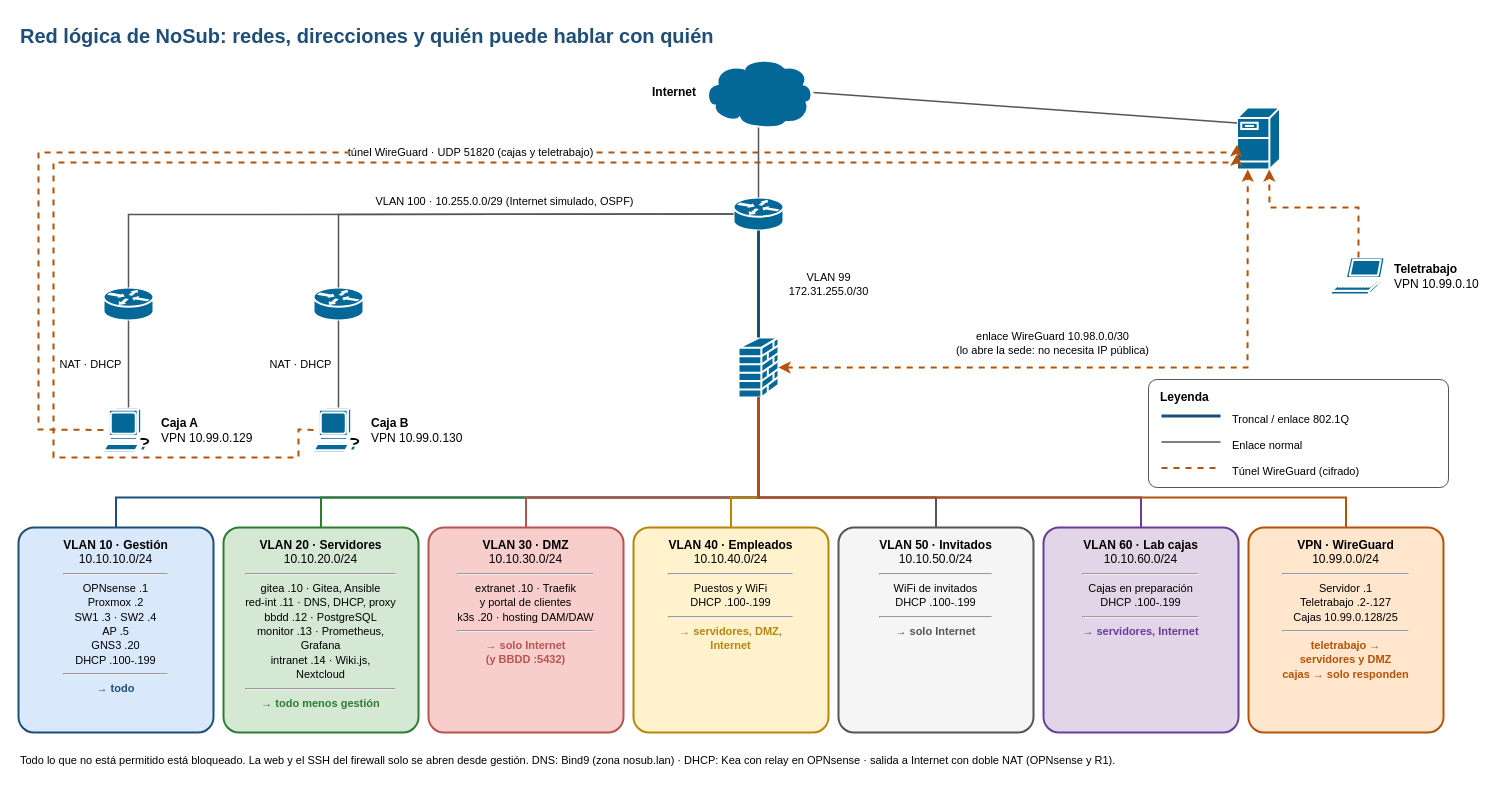
The diagram is 1496 pixels wide and 804 high, and some of its shapes have lost their labels. Here are the shapes that lost their labels. From the top down, the centre of each, then its label:
At point (1258, 138): "VPS cloud (Oracle) página de estado · entrada de la VPN · copias".
At point (758, 213): "R1 · 172.31.255.1 NAT · OSPF área 0".
At point (128, 303): "R2 · 10.255.0.2 cliente A 192.168.10.0/24".
At point (338, 303): "R3 · 10.255.0.3 cliente B 192.168.20.0/24".
At point (758, 367): "OPNsense · firewall WAN 172.31.255.2 NAT · DMZ · WireGuard relay DHCP".
